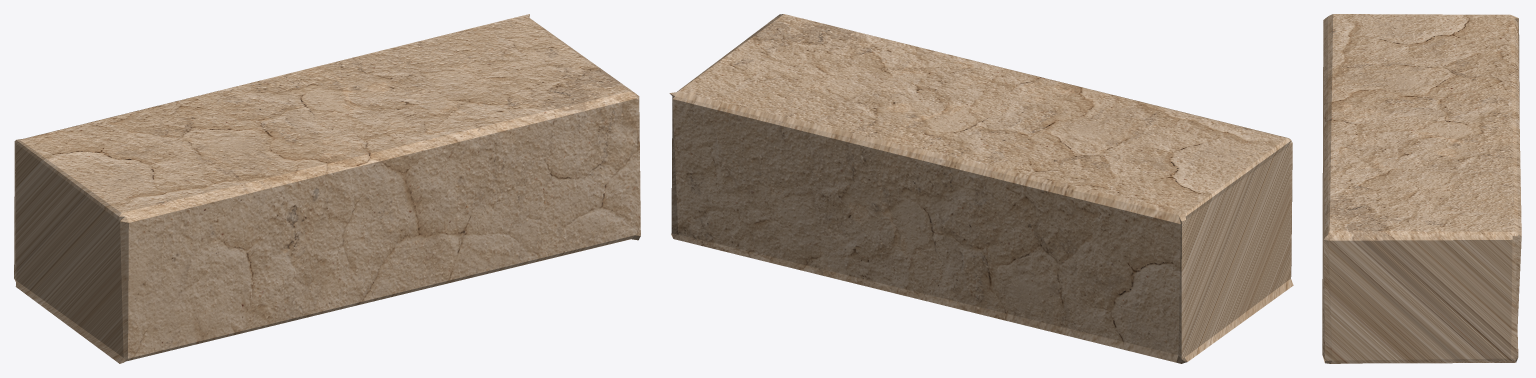
Rendered from low_edge_stone.glb.
3 renders of one model, left to right at view 1: azimuth 30°, elevation 25°; view 2: azimuth 150°, elevation 25°; view 3: azimuth 270°, elevation 25°, orthographic. The views are drawn at different scales.
Visible parts, largest first — view 1: Low_Mineral_Edge_Master; view 2: Low_Mineral_Edge_Master; view 3: Low_Mineral_Edge_Master.
Part boxes in pixels (bbox=[...]): Low_Mineral_Edge_Master: bbox=[14, 14, 640, 363]; Low_Mineral_Edge_Master: bbox=[669, 14, 1293, 363]; Low_Mineral_Edge_Master: bbox=[1322, 14, 1521, 363].
Bounding box in the file's own units: 0.3116 × 0.0865 × 0.1183.
1 material, 1 textured.
